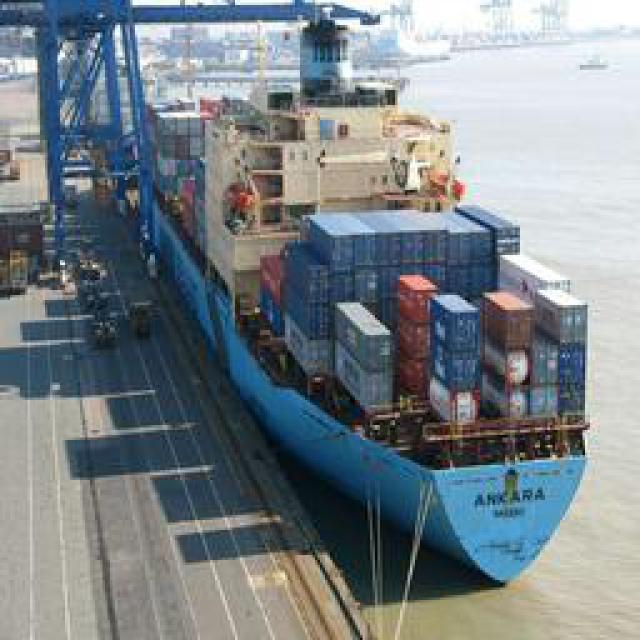Ship: (102, 31, 590, 624)
